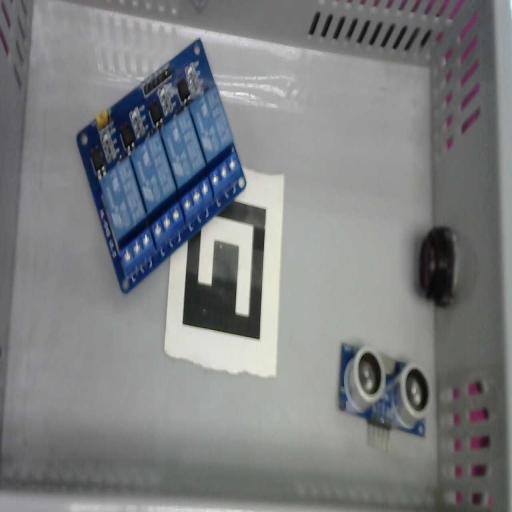QR: (164, 166, 284, 379)
relay_module: (76, 37, 246, 294)
ultrasonic_hc-sr04: (338, 342, 433, 452)
